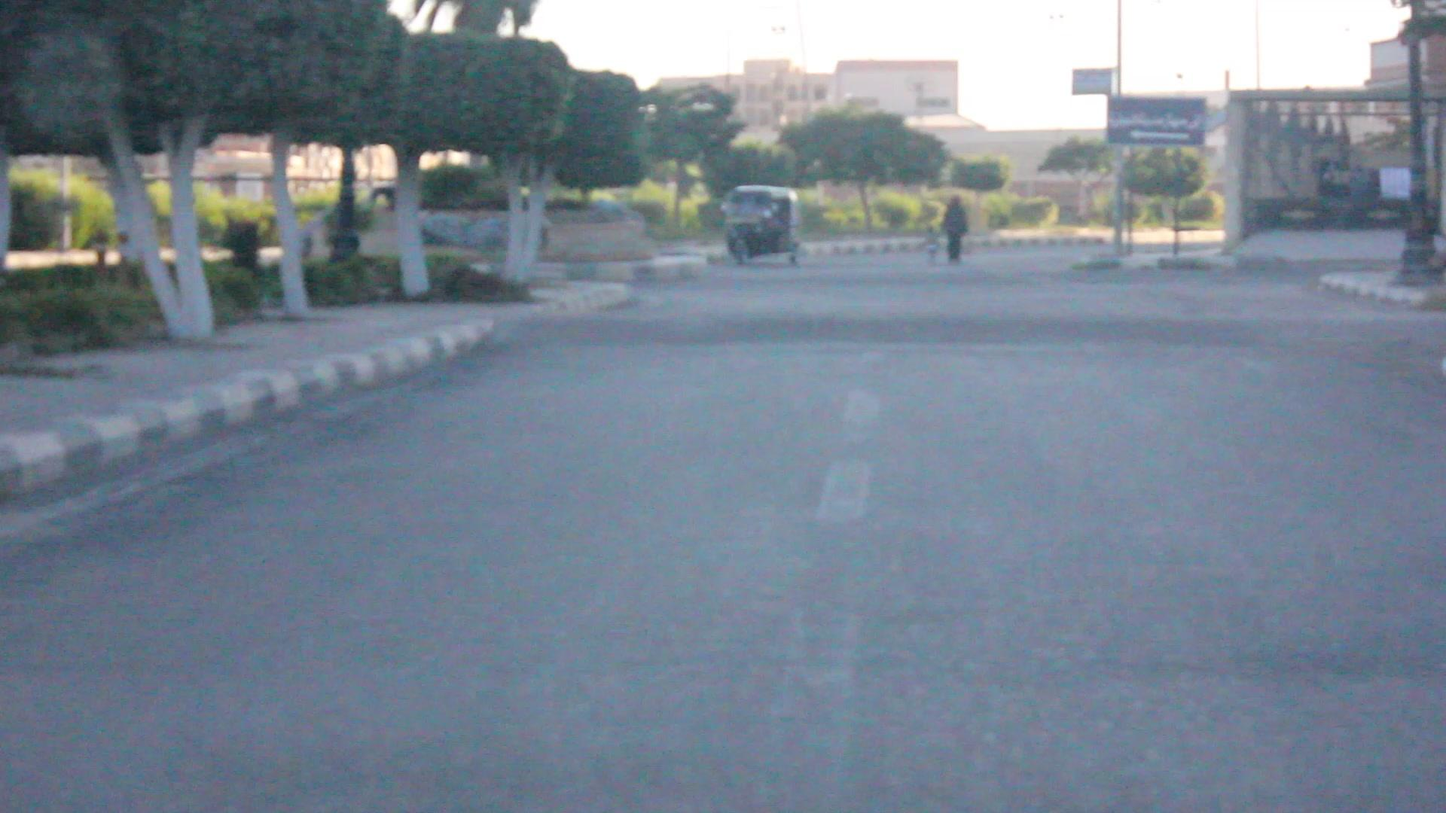Bump: (514, 307, 1438, 356)
